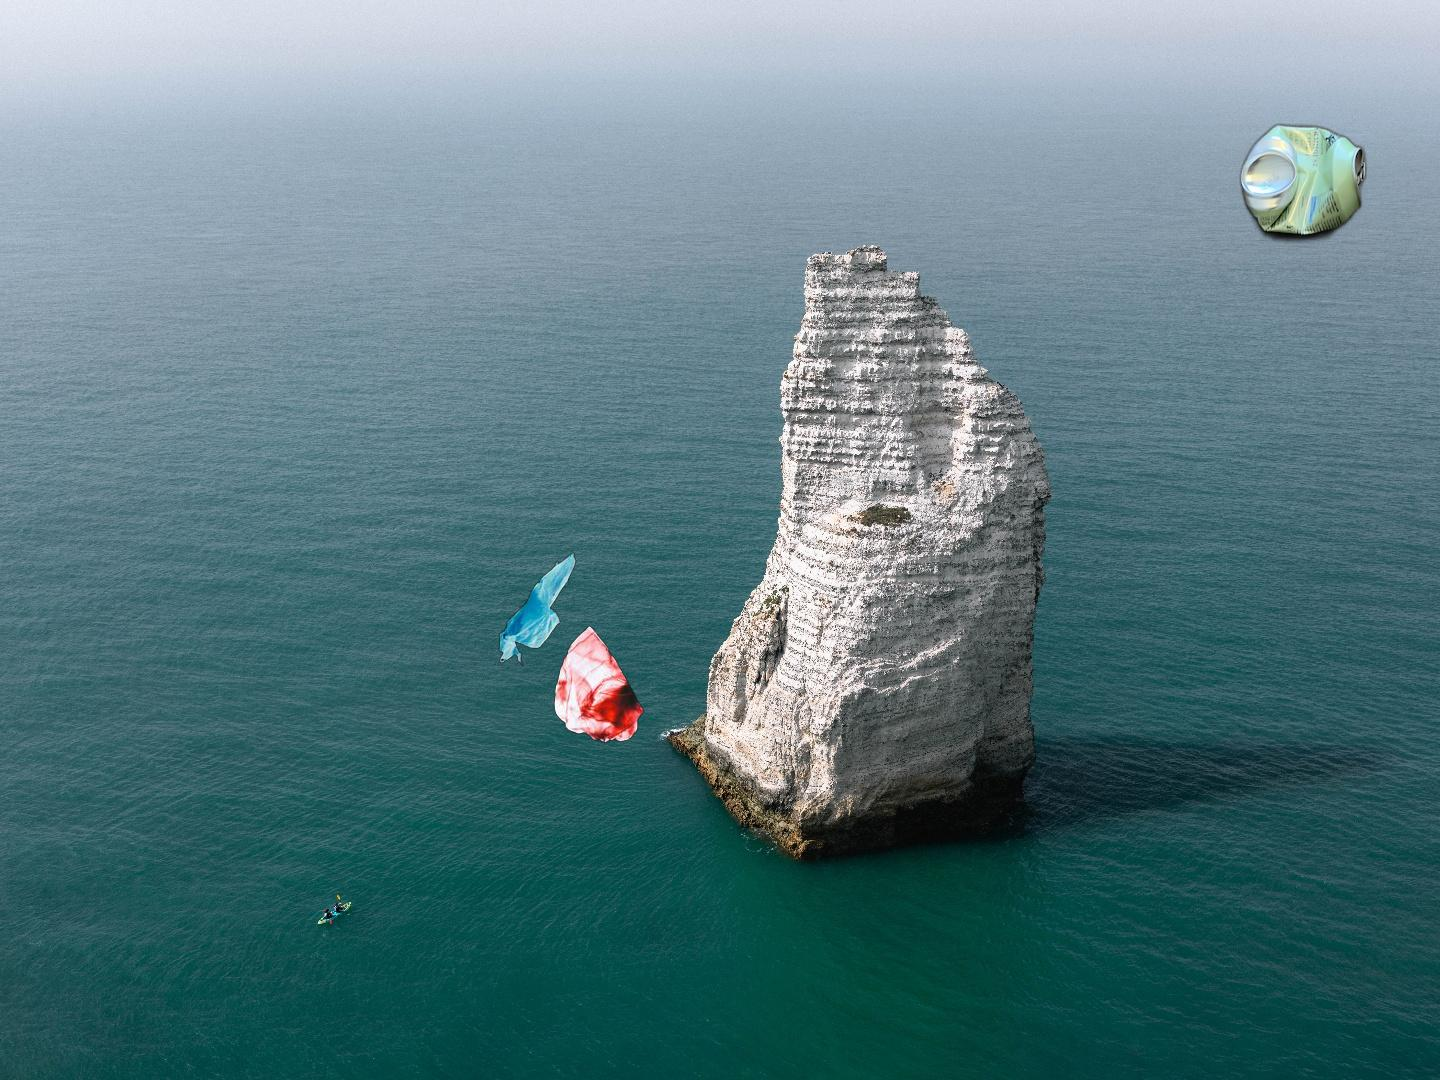metal-cans: (1236, 118, 1371, 246)
plastic-bag: (496, 550, 646, 746)
